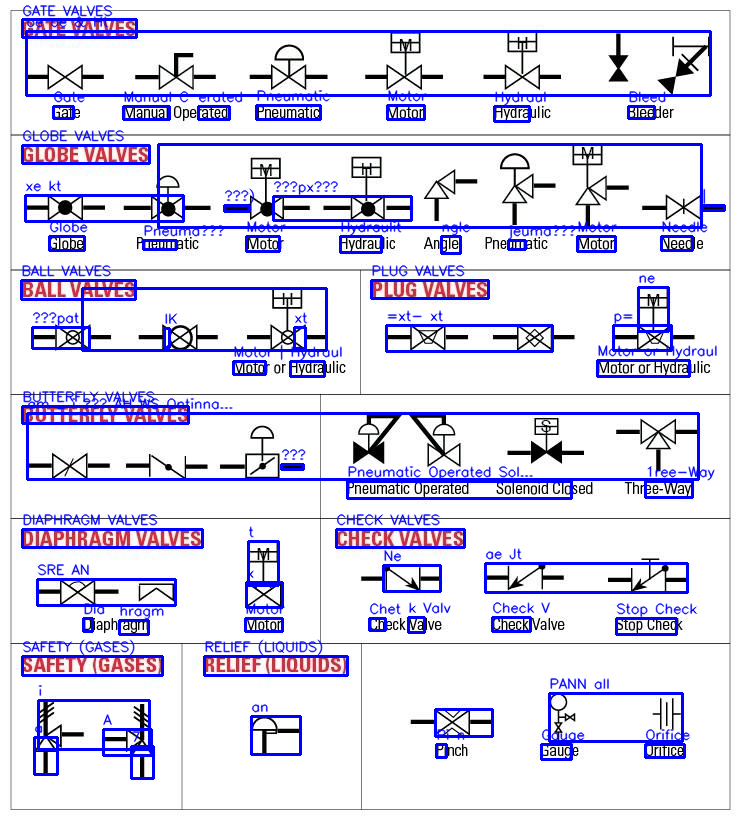Válvula: (321, 153, 412, 225), (611, 284, 697, 354), (224, 154, 312, 222), (245, 283, 330, 353), (569, 139, 632, 230), (362, 27, 448, 93), (481, 28, 562, 94), (219, 423, 305, 484), (614, 415, 700, 475), (494, 152, 558, 227), (246, 42, 332, 97), (98, 701, 156, 780), (504, 416, 587, 469), (130, 49, 223, 96), (31, 697, 86, 776), (122, 174, 214, 221), (655, 34, 714, 97), (406, 411, 468, 469), (407, 703, 495, 742), (421, 167, 480, 224), (345, 412, 404, 469), (604, 556, 689, 595), (242, 538, 284, 611), (23, 450, 113, 483), (481, 560, 566, 594), (489, 321, 578, 353), (22, 61, 108, 94), (639, 191, 725, 223), (34, 576, 122, 607), (21, 193, 108, 224), (383, 322, 472, 352), (123, 452, 211, 482), (28, 322, 113, 353), (135, 322, 220, 353), (356, 563, 444, 592), (248, 713, 301, 756), (548, 690, 577, 742), (649, 694, 685, 735), (606, 30, 631, 85), (135, 579, 177, 603)
